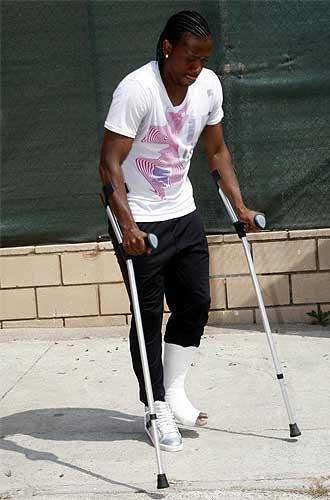crutches: (98, 0, 311, 495)
